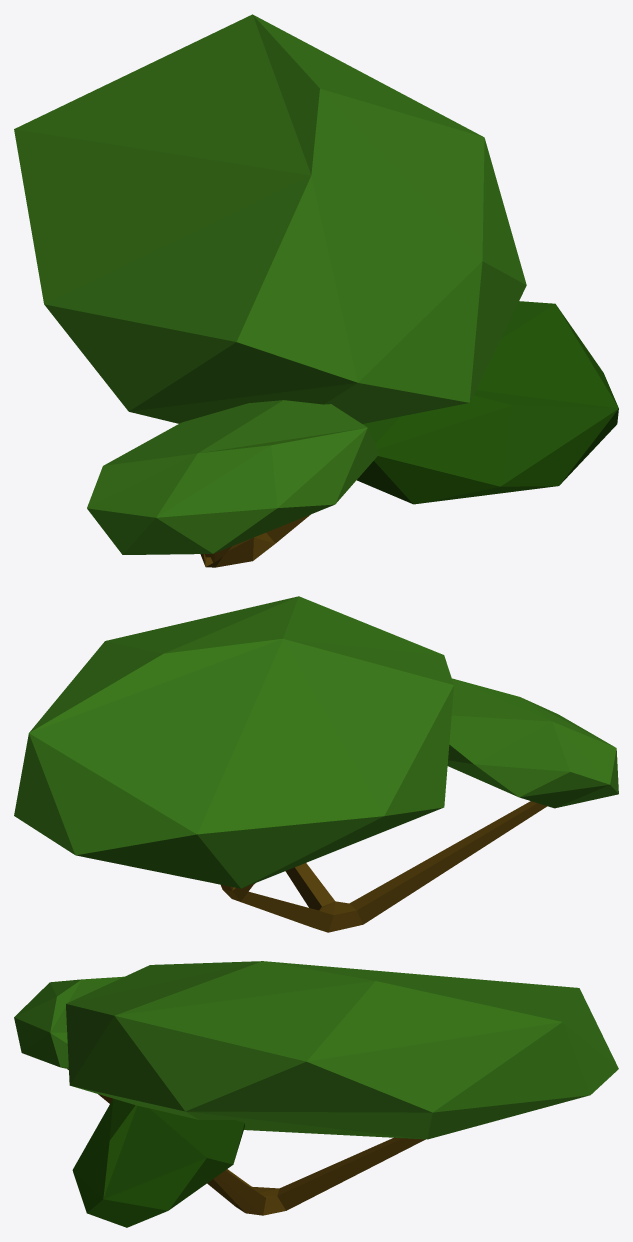
The model's file is Bush1.fbx.
3 views of the same model, one above another, from view 1: azimuth 30°, elevation 25°; view 2: azimuth 150°, elevation 25°; view 3: azimuth 270°, elevation 25° (orthographic). The views are drawn at different scales.
Parts seen in each view (by area): view 1: Cube; view 2: Cube; view 3: Cube.
Part boxes in pixels (bbox=[...]): Cube: bbox=[14, 14, 618, 567]; Cube: bbox=[14, 596, 618, 932]; Cube: bbox=[14, 961, 618, 1227].
Bounding box in the file's own units: 371 × 235 × 452.
